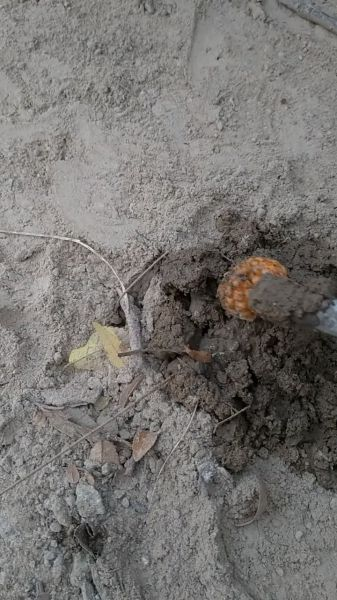eggs: (216, 252, 287, 327)
